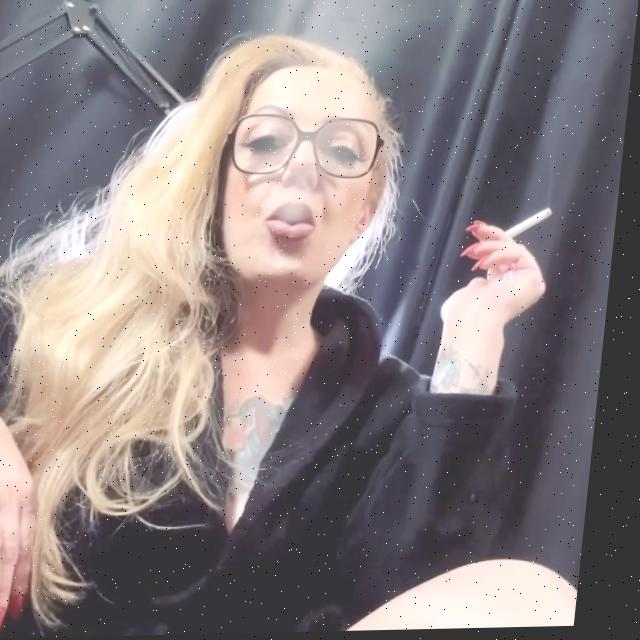cigarette: (512, 212, 556, 239)
